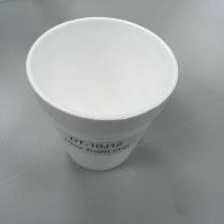paper_cup: (18, 12, 184, 176)
